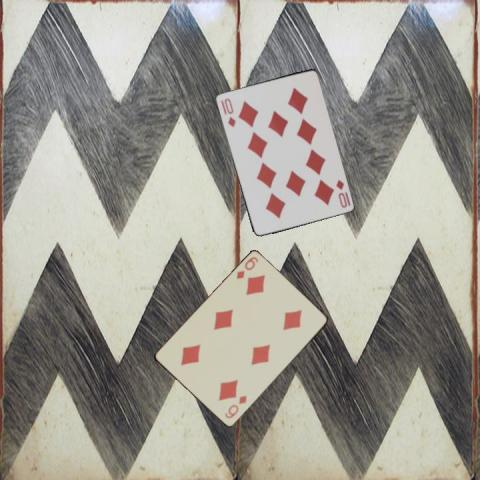10d: (221, 95, 237, 128), (333, 177, 348, 209)
6d: (233, 254, 260, 281), (222, 393, 248, 420)
